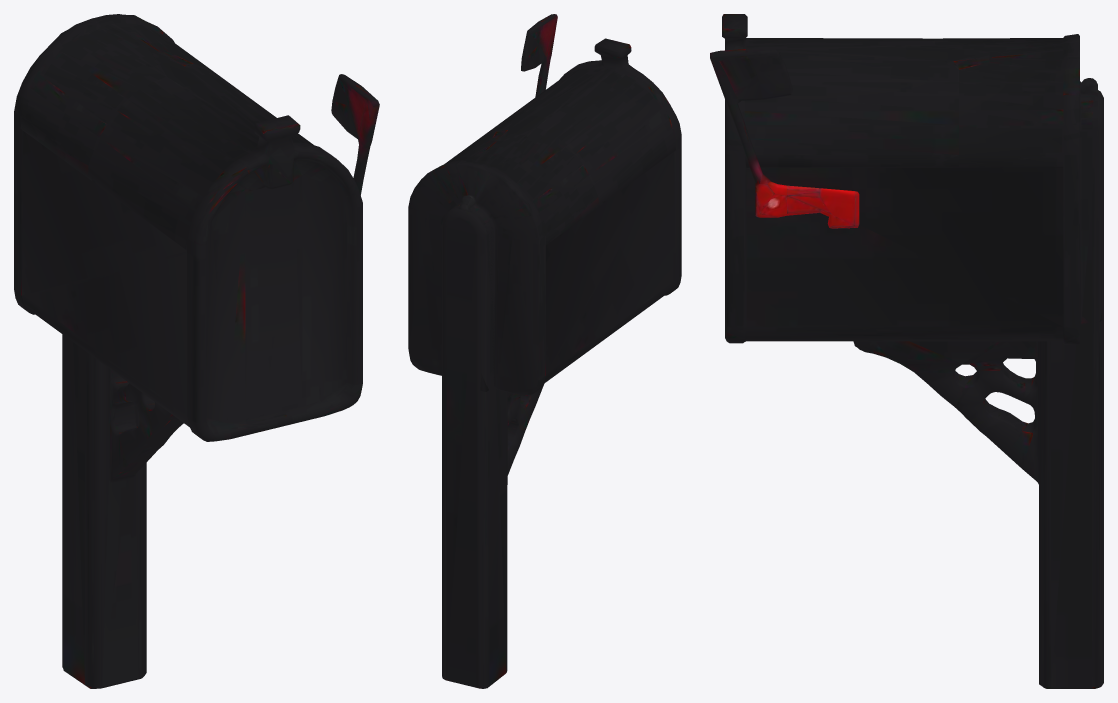
The model's file is mailbox.glb.
3 views of the same model, side by side, from view 1: azimuth 30°, elevation 25°; view 2: azimuth 150°, elevation 25°; view 3: azimuth 270°, elevation 25° (orthographic). The views are drawn at different scales.
Bounding box in the file's own units: 0.5166 × 1.91 × 1.02.
Materials: 1 (1 with a texture image).
